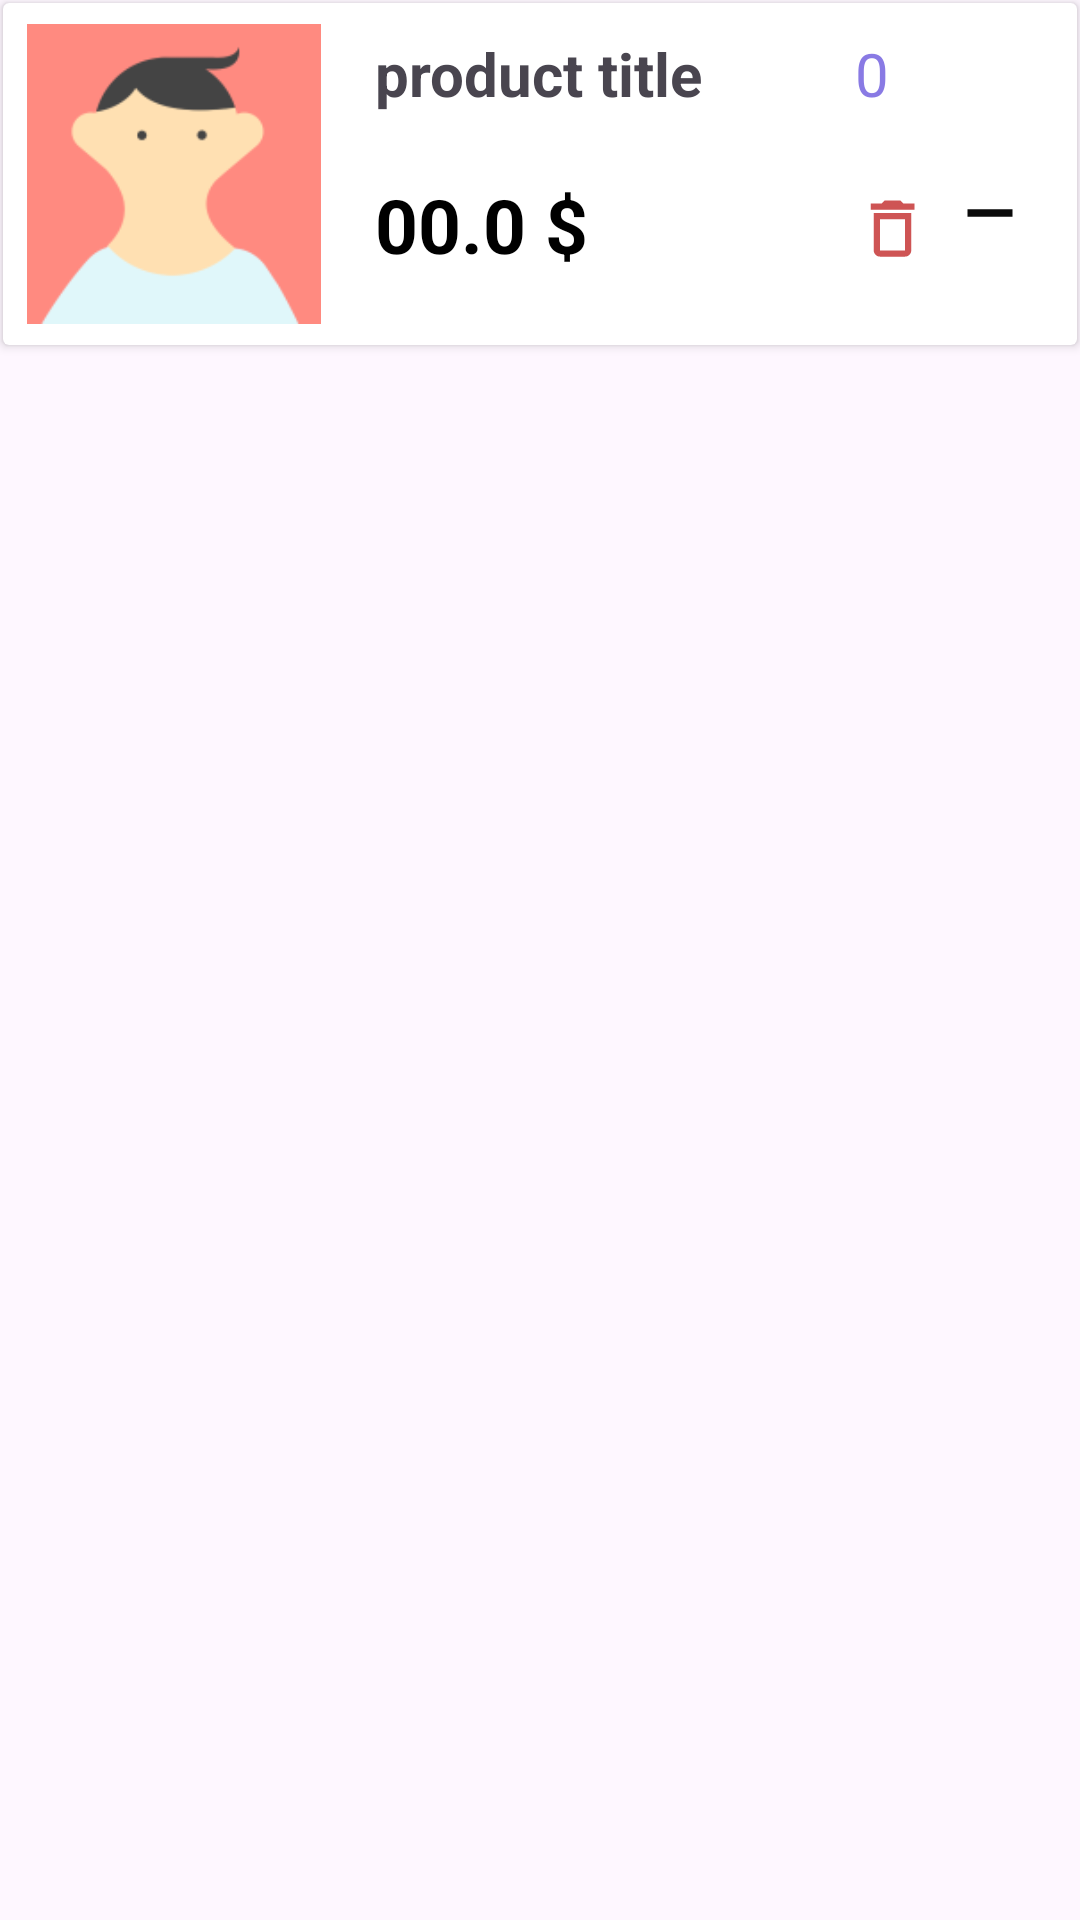

Icon bounding boxes for this 1080 x 1920 phone screenshot, format (x1, y1, x2, y2):
delete: (870, 200, 915, 257)
minimize: (967, 209, 1013, 217)
